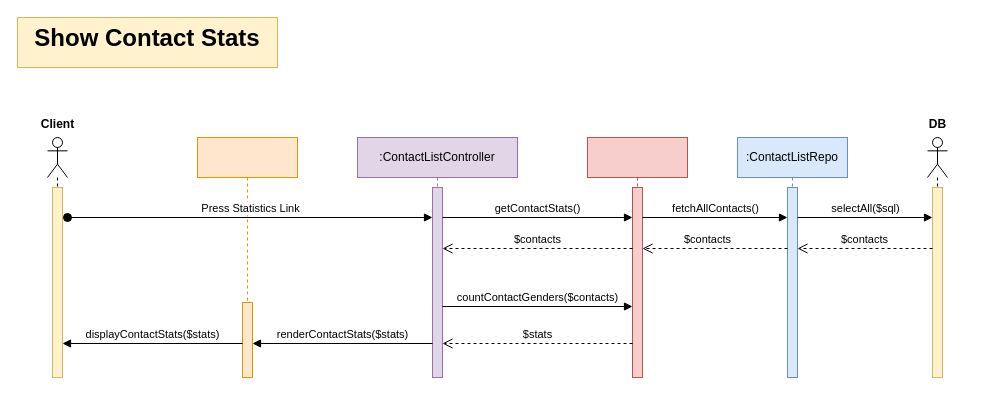
This 995x395 diagram has some shape labels left out. The shapes that lost their labels are listed below. From the top down, each one's box as (x1, y1, x2, y2) in pixels, then its label:
(196, 136, 298, 378): :ContactListView
(586, 136, 688, 378): :ContactList
